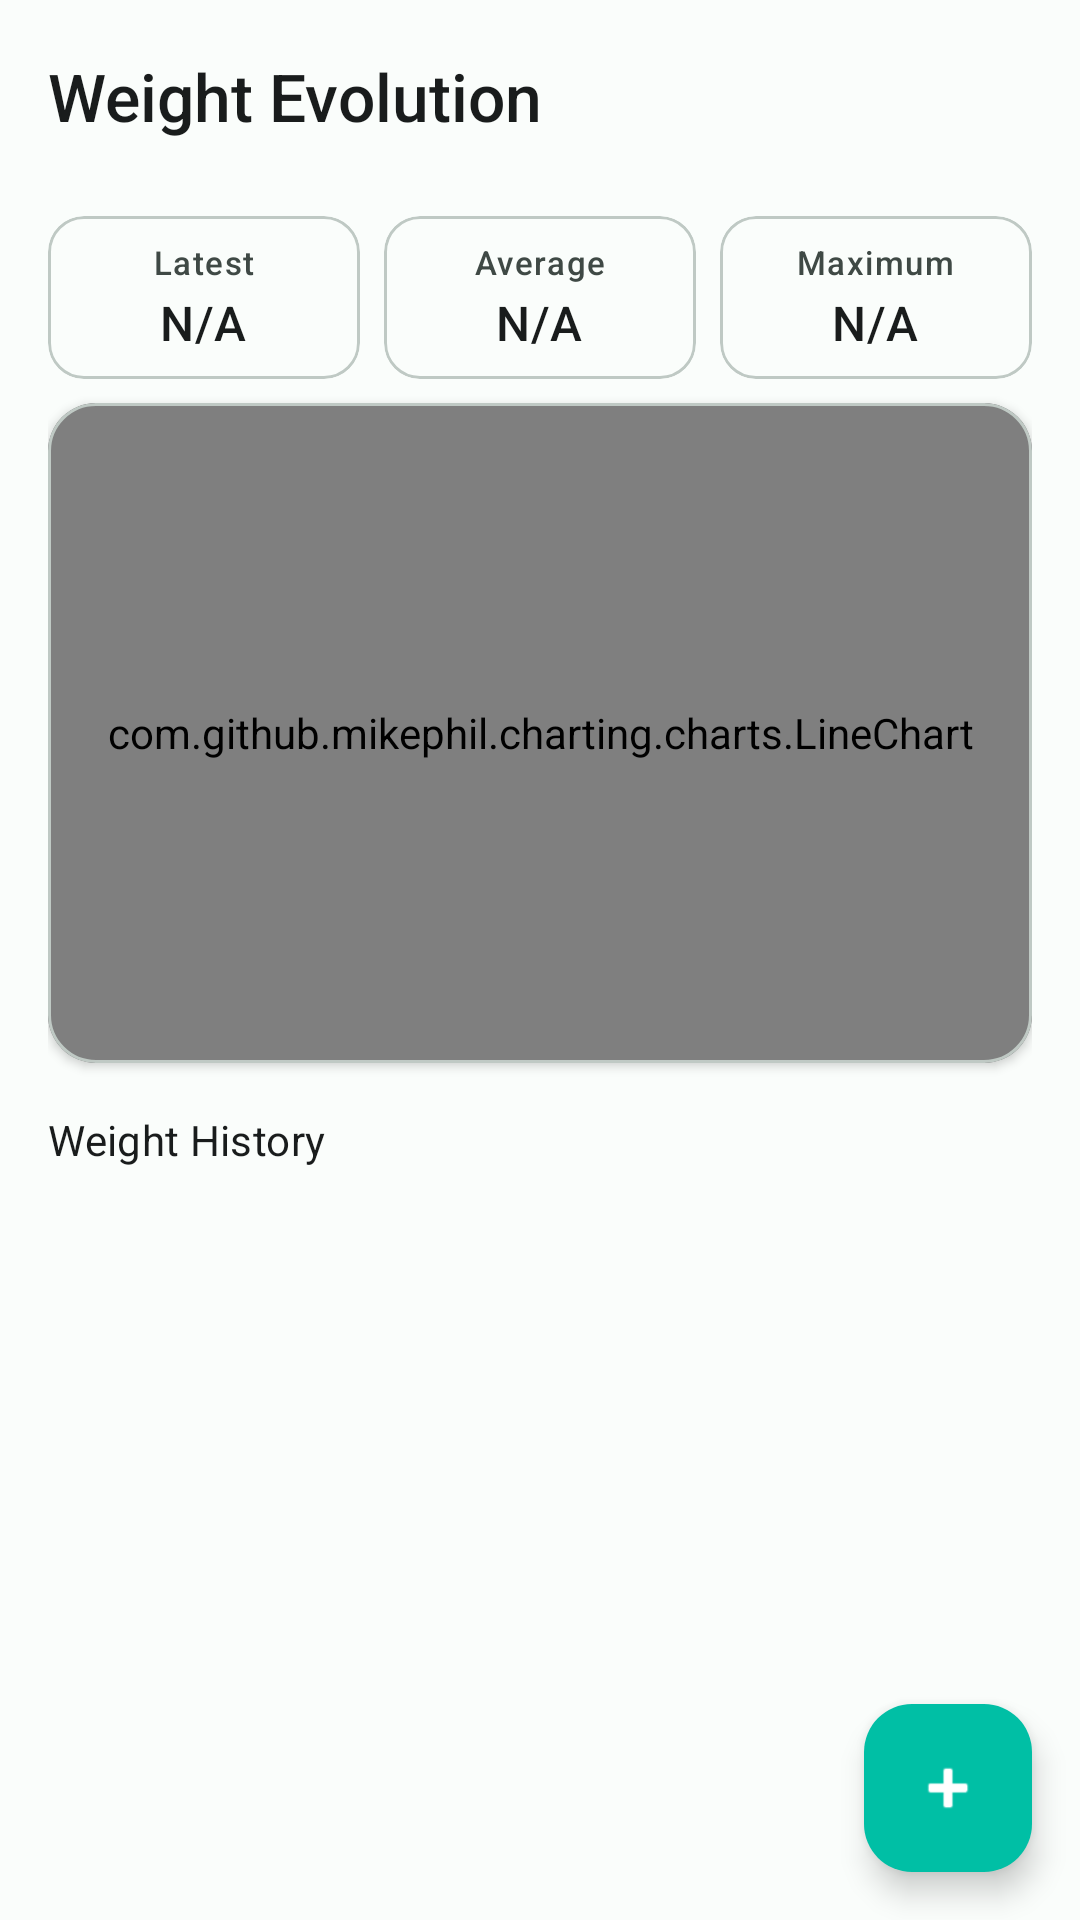

Icon click points for this 1080w x 1920h phone screenshot, format point (x, y):
Add Weight Record: point (948, 1788)
